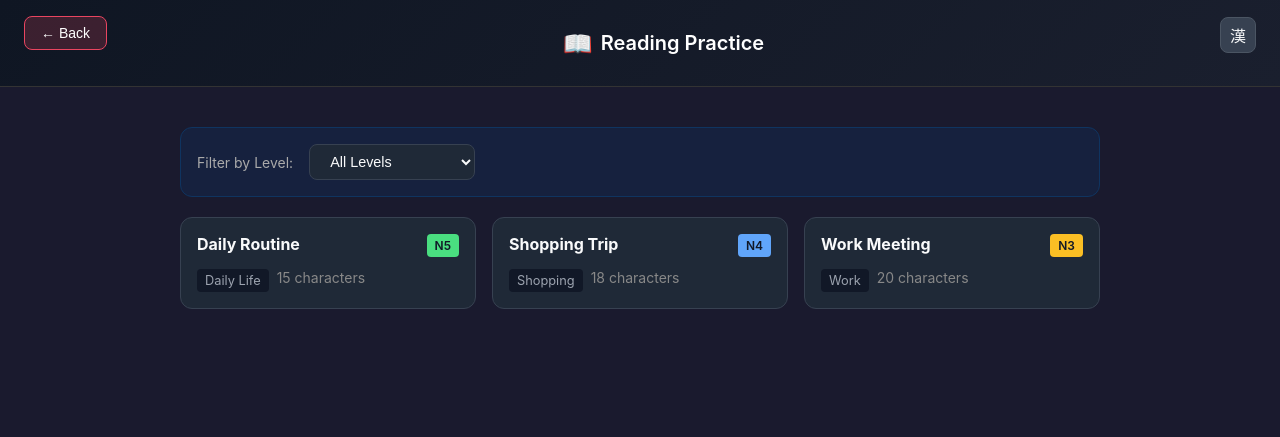
it: ReadingMode › Reading View › should navigate to reading view when clicking a passage
Click the heading "Daily Routine" at point(248, 244), box [197,234,300,254]
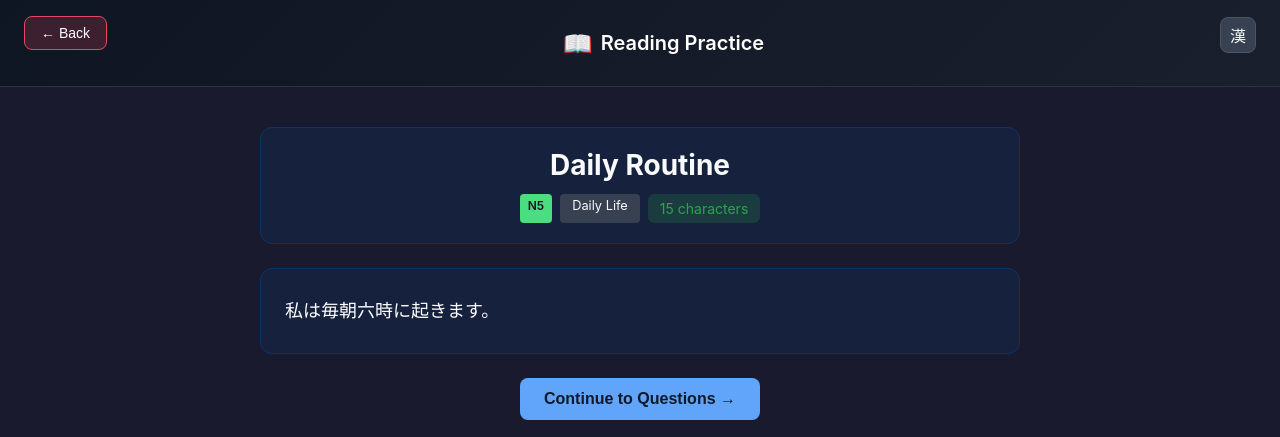
expect the heading "Daily Routine" is shown: met, box [550,148,730,182]
expect the button "Continue to Questions →" is shown: met, box [520,378,760,420]
